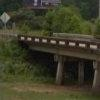Bridge: (16, 26, 98, 73)
